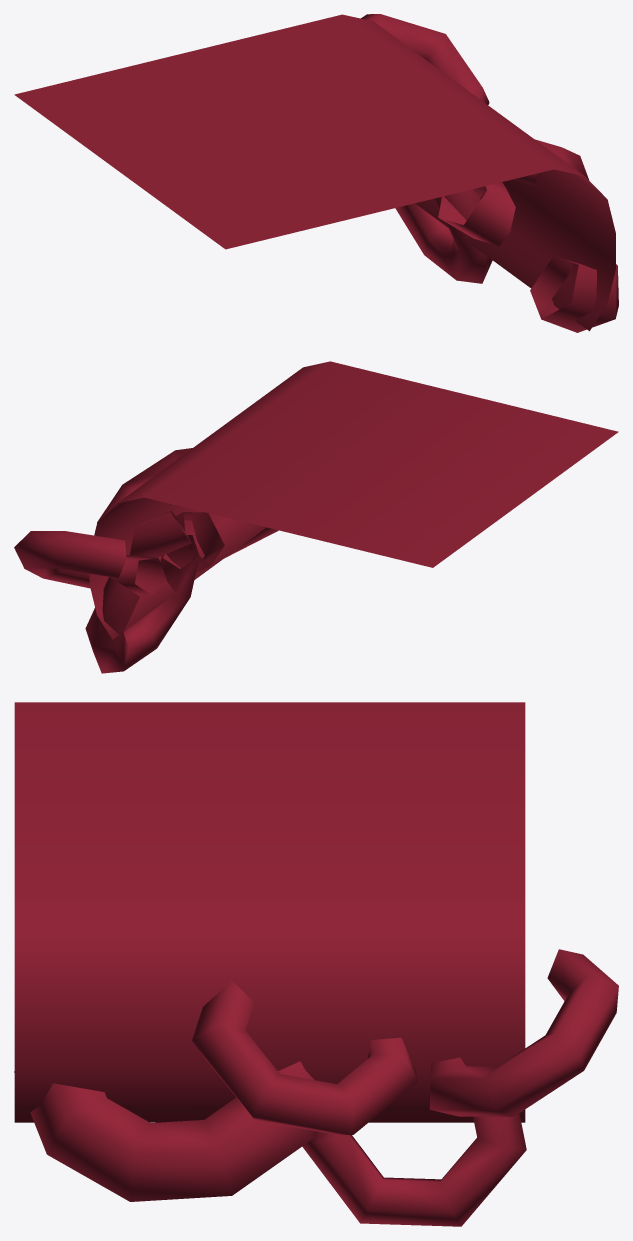
The model's file is Surface_SideUp00.fbx.
3 renders of one model, top to bottom at view 1: azimuth 30°, elevation 25°; view 2: azimuth 150°, elevation 25°; view 3: azimuth 270°, elevation 25°, orthographic. The views are drawn at different scales.
Parts seen in each view (by area): view 1: Surface_SideUp00; view 2: Surface_SideUp00; view 3: Surface_SideUp00.
Boxes of the visible parts, bbox=[...] form: Surface_SideUp00: bbox=[14, 14, 618, 332]; Surface_SideUp00: bbox=[14, 361, 618, 673]; Surface_SideUp00: bbox=[14, 702, 618, 1226].
Size of the model in its own units: 2528 by 1240 by 2369.
